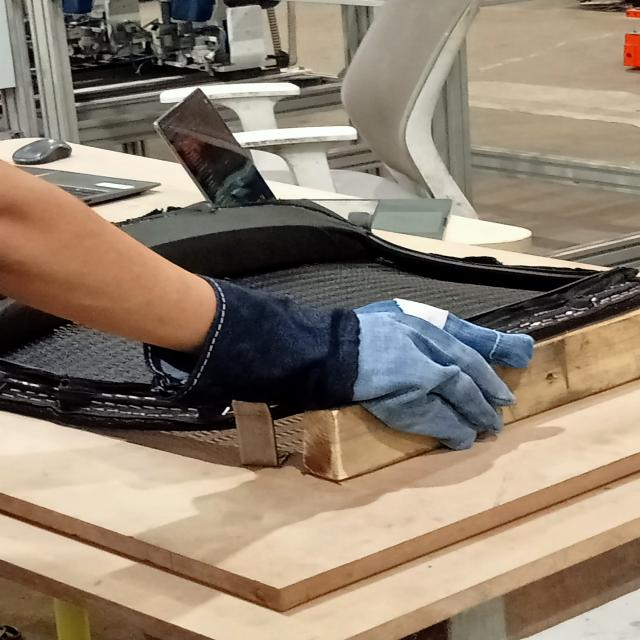Gloves-Detection: (185, 253, 526, 441)
